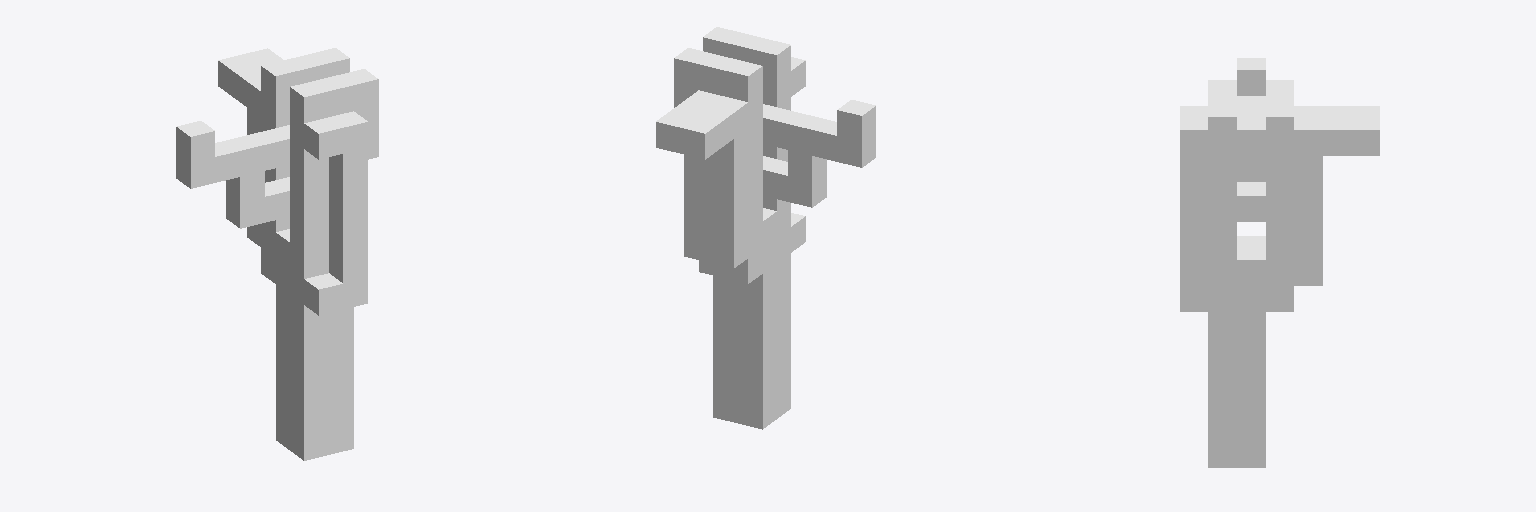
Rendered from Arm-24.obj.
3 views of the same model, side by side, from view 1: azimuth 30°, elevation 25°; view 2: azimuth 150°, elevation 25°; view 3: azimuth 270°, elevation 25° (orthographic).
Parts seen in each view (by area): view 1: object 1; view 2: object 1; view 3: object 1.
Part boxes in pixels (x1,y1,x2,y2): object 1: (176,48,378,460); object 1: (656,27,875,429); object 1: (1180,58,1379,467).
Size of the model in its own units: 0.7 by 1.4 by 0.7.